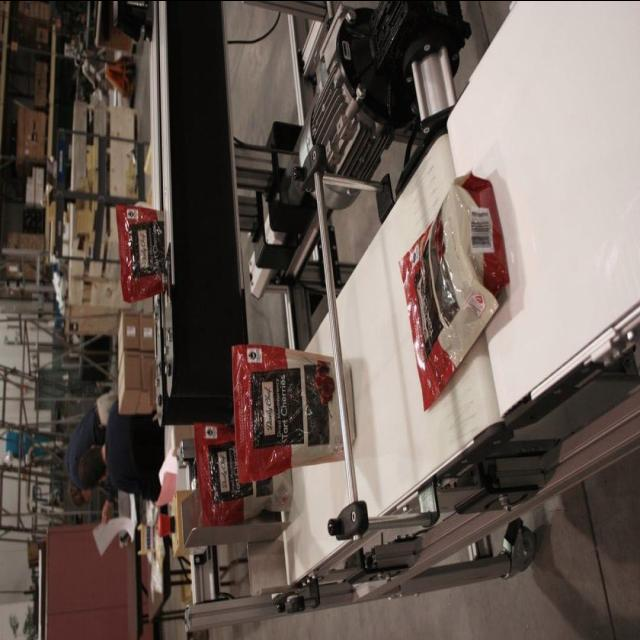food: (397, 170, 510, 412), (230, 342, 356, 486), (193, 421, 293, 529), (115, 201, 167, 305)
